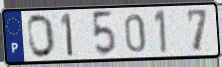0: (123, 12, 148, 54)
1: (59, 12, 75, 59), (153, 8, 168, 56)
5: (90, 8, 118, 59)
7: (186, 7, 209, 54)
O: (26, 13, 57, 60)
